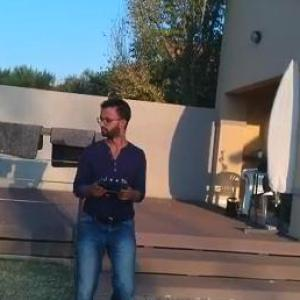follow: (68, 95, 152, 299)
